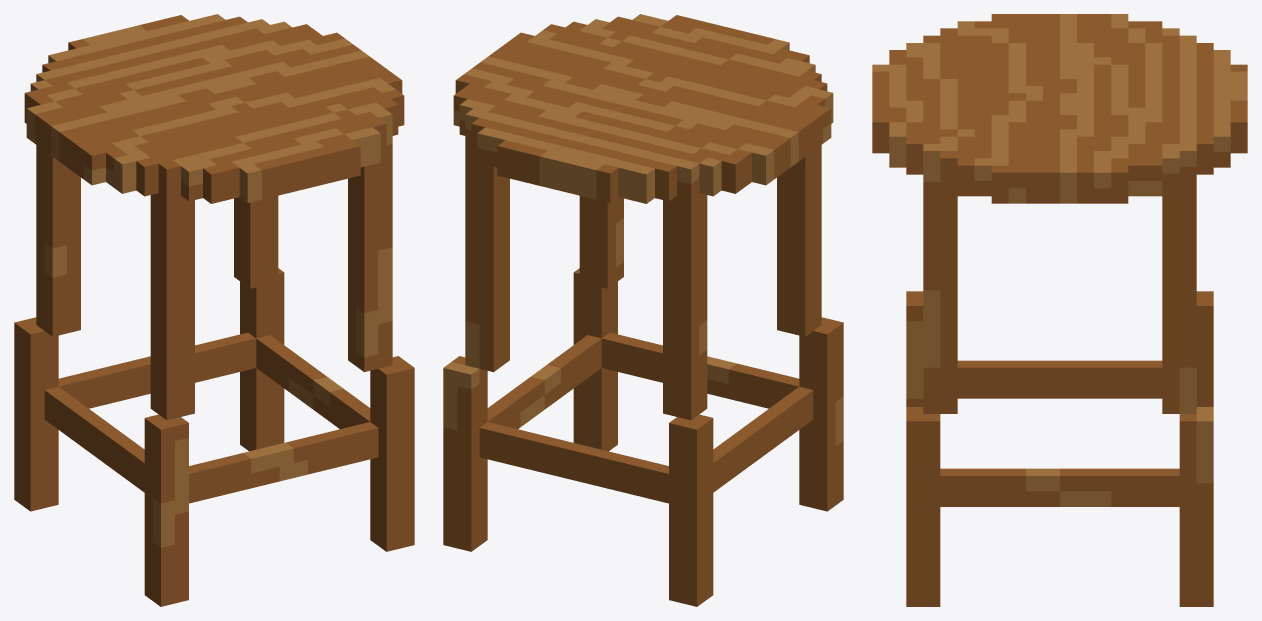
The model's file is tabouret.obj.
3 views of the same model, side by side, from view 1: azimuth 30°, elevation 25°; view 2: azimuth 150°, elevation 25°; view 3: azimuth 270°, elevation 25° (orthographic). The views are drawn at different scales.
Bounding box in the file's own units: 2.2 × 2.9 × 2.2.
1 material, 1 textured.
